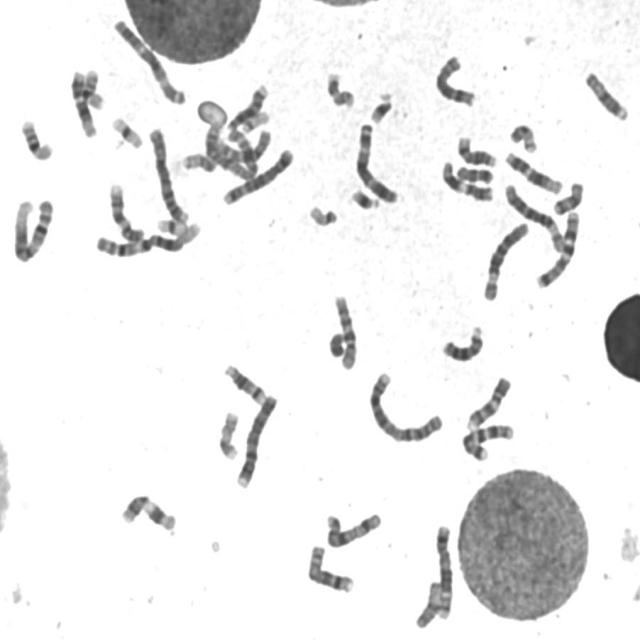A1: (92, 215, 204, 260), (8, 193, 56, 264)
A2: (364, 366, 446, 444), (203, 119, 265, 181)
A3: (108, 13, 188, 106), (352, 118, 400, 205)
B4: (232, 389, 280, 490), (145, 122, 189, 227)
B5: (219, 144, 295, 206), (430, 519, 456, 621)
C10: (209, 124, 273, 170), (330, 290, 360, 372)
C11: (437, 155, 496, 203), (116, 489, 178, 533)
C12: (501, 146, 564, 195), (66, 65, 98, 138)
C6: (500, 179, 567, 253), (479, 218, 531, 302)
C7: (532, 206, 582, 290), (458, 418, 516, 462)
C8: (303, 540, 355, 595), (432, 51, 478, 108)
C9: (463, 372, 513, 432), (105, 179, 146, 244)
D13: (223, 80, 270, 133), (438, 320, 485, 364)
D14: (220, 360, 268, 406), (454, 131, 499, 169)
D15: (581, 66, 630, 122), (414, 582, 443, 630)
E16: (16, 114, 55, 162), (79, 64, 105, 111)
E17: (214, 406, 242, 462), (322, 68, 358, 110)
E18: (550, 177, 585, 216), (452, 160, 496, 186)
F19: (108, 111, 144, 151), (153, 212, 191, 237)
F20: (507, 119, 539, 154), (181, 150, 217, 174)
G21: (366, 87, 395, 125), (348, 185, 382, 212)
G22: (305, 201, 340, 228), (238, 105, 270, 134)
X: (321, 506, 384, 550)
Y: (325, 327, 346, 358)
